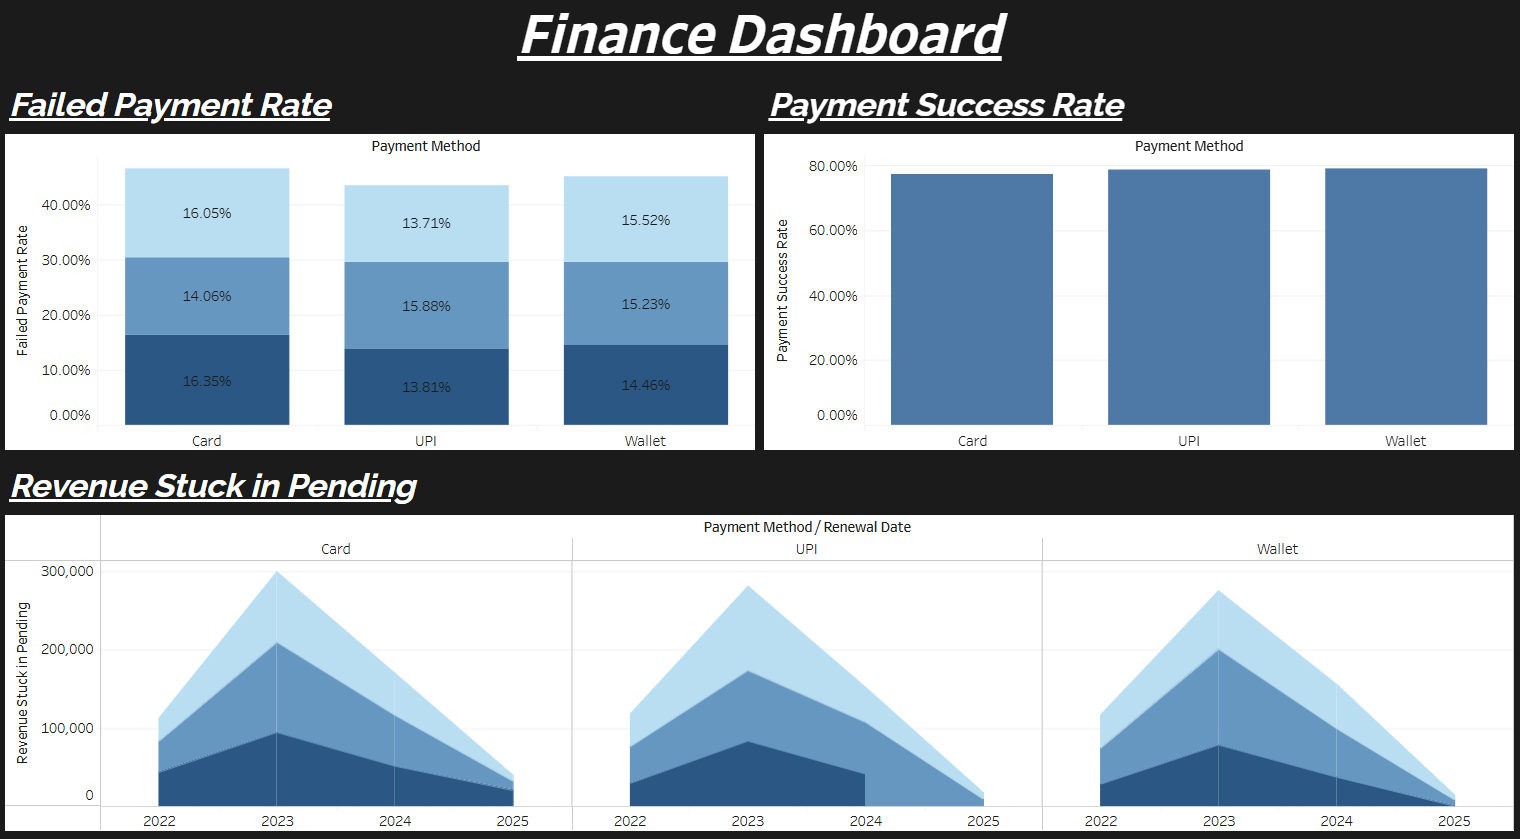

This screenshot's page, from the dashboard's own definition file:
{"tool":"tableau","page":{"name":"Finance Dashboard","canvas":[1366,768],"ordinal":1},"visuals":[{"type":"title","box":[8,8,1350,74]},{"type":"worksheet","title":"Failed Payment Rate","mark":"Automatic","rows":["Calculation_0014391493169249"],"cols":["payment_method"],"box":[8,82,675,339]},{"type":"worksheet","title":"Payment Success Rate","mark":"Automatic","rows":["Calculation_0014391491383391"],"cols":["payment_method"],"box":[683,82,675,339]},{"type":"worksheet","title":"Revenue Stuck in Pending","mark":"Area","rows":["Calculation_0014391494836323"],"cols":["payment_method","renewal_date"],"box":[8,421,1350,339]}]}

Visuals, with their boxes in screenshot pixels (x1, y1, x2, y2), scaled from the page's 1366x768 canvas onto the 1520x839 screenshot:
title: x1=9 y1=9 x2=1511 y2=90
"Failed Payment Rate" worksheet: x1=9 y1=90 x2=760 y2=460
"Payment Success Rate" worksheet: x1=760 y1=90 x2=1511 y2=460
"Revenue Stuck in Pending" worksheet (Area marks): x1=9 y1=460 x2=1511 y2=830
